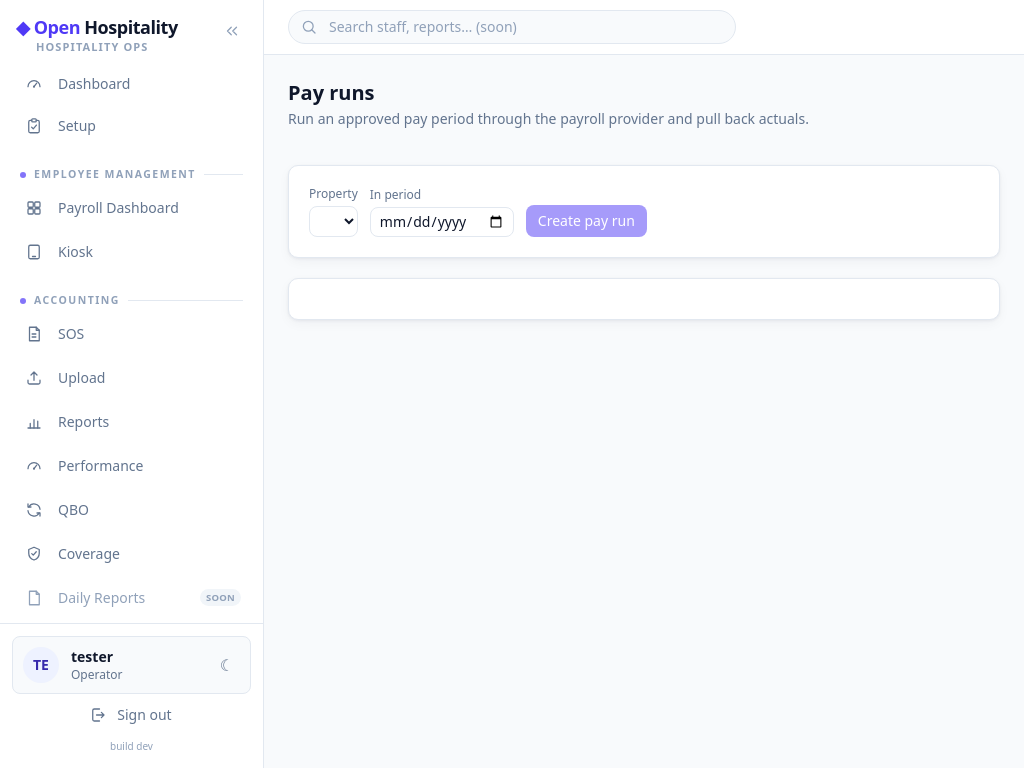
Scenario: PayRunsPage › renders the preflight blocker list verbatim on a 422
Type "2026-07-06" into the date field labelled "In period".
click(442, 222); type("2026-07-06")  # box x1=370 y1=207 x2=514 y2=237
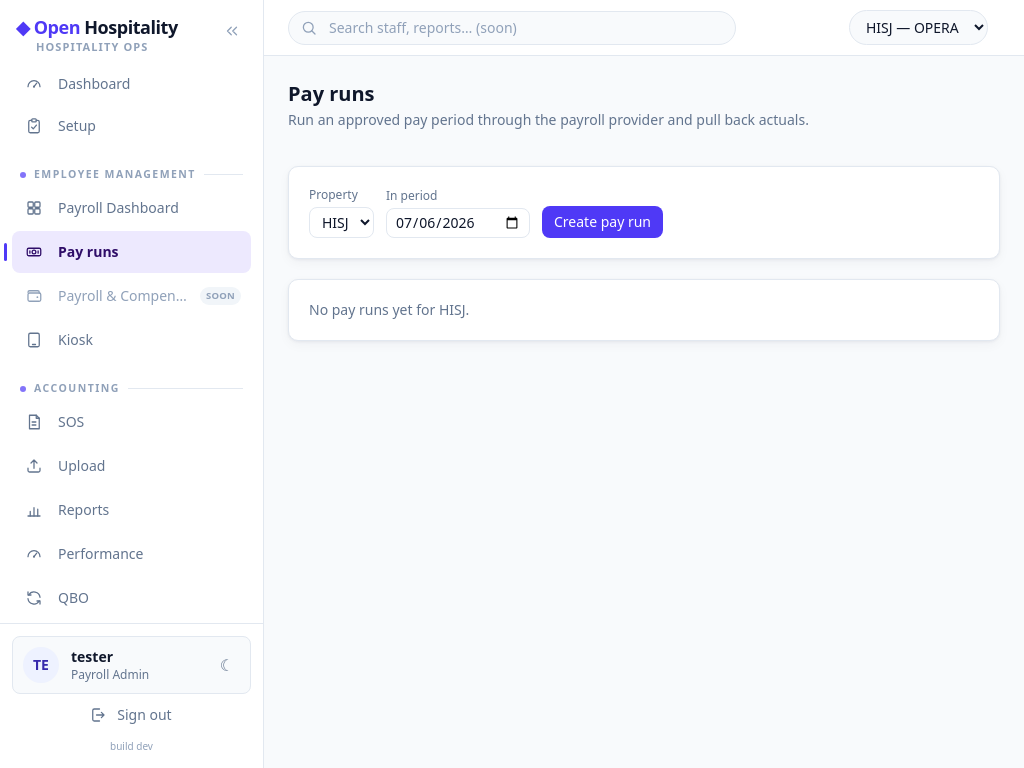
Click the button "Create pay run".
click(602, 222)  # box x1=542 y1=206 x2=663 y2=238
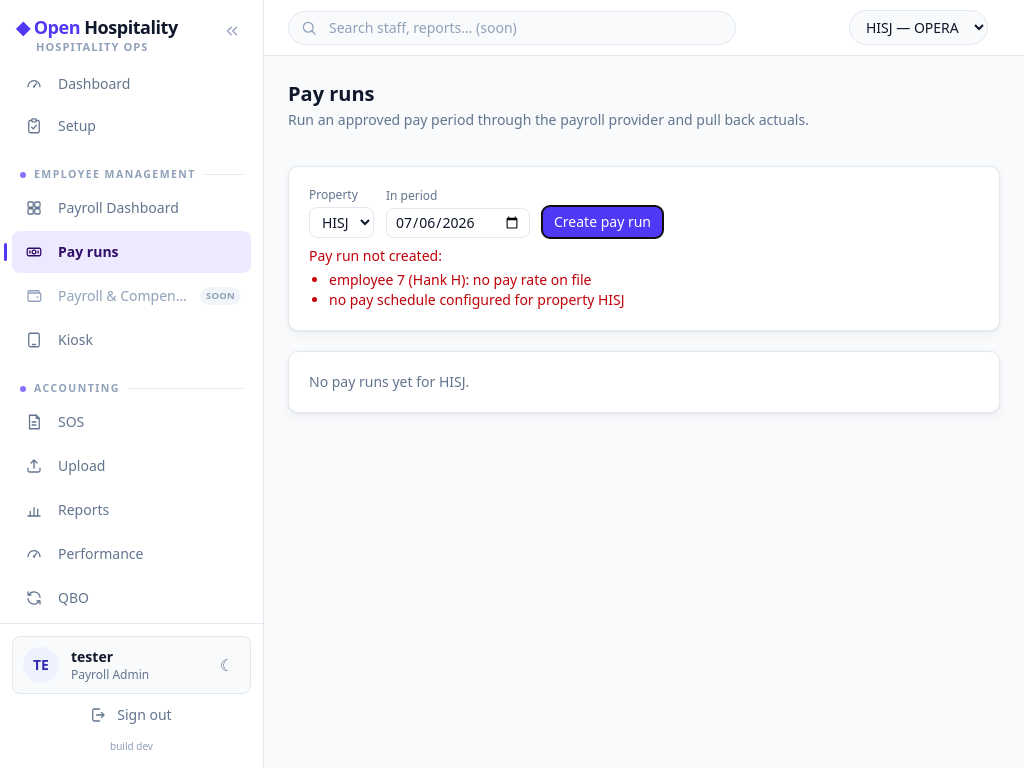
Now the list items read "employee 7 (Hank H): no pay rate on file", "no pay schedule configured for property HISJ", in this order, box x1=329 y1=270 x2=591 y2=289; x1=329 y1=290 x2=625 y2=309
